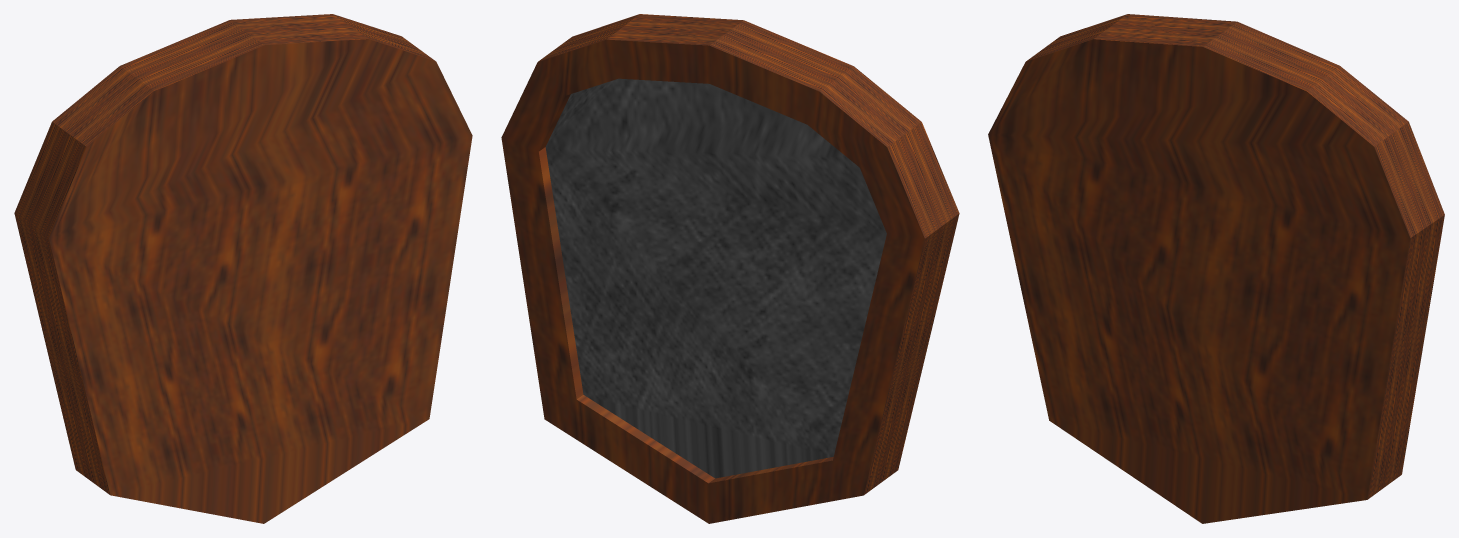
File: StatusChanger_Defence_Obj.fbx
3 views of the same model, side by side, from view 1: azimuth 30°, elevation 25°; view 2: azimuth 150°, elevation 25°; view 3: azimuth 330°, elevation 25° (orthographic).
Parts seen in each view (by area): view 1: 立方体; view 2: 立方体; view 3: 立方体.
Part boxes in pixels (x1=…): 立方体: x1=14, y1=14, x2=472, y2=523; 立方体: x1=501, y1=14, x2=959, y2=523; 立方体: x1=988, y1=14, x2=1444, y2=523.
Size of the model in its own units: 2.45 by 2.65 by 0.3474.
